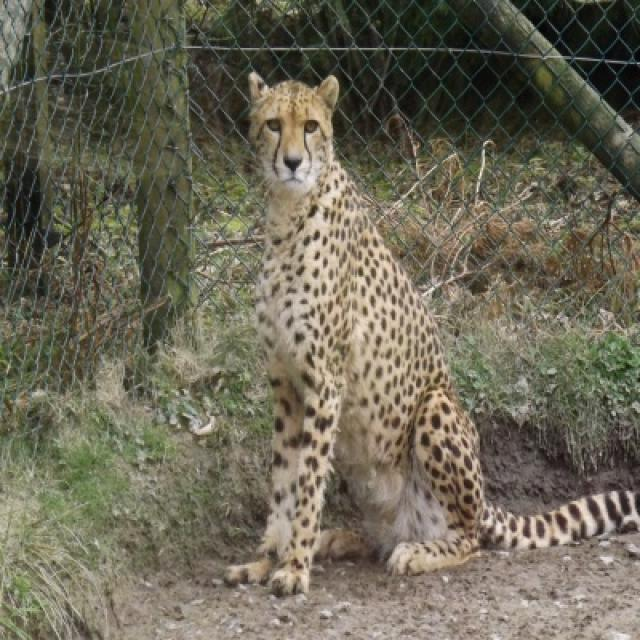Cheetah: (226, 70, 638, 592)
